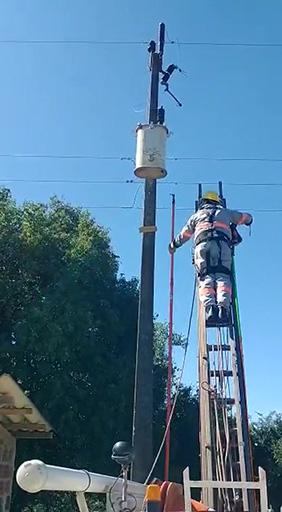Vara_Manobra: (163, 198, 177, 481)
